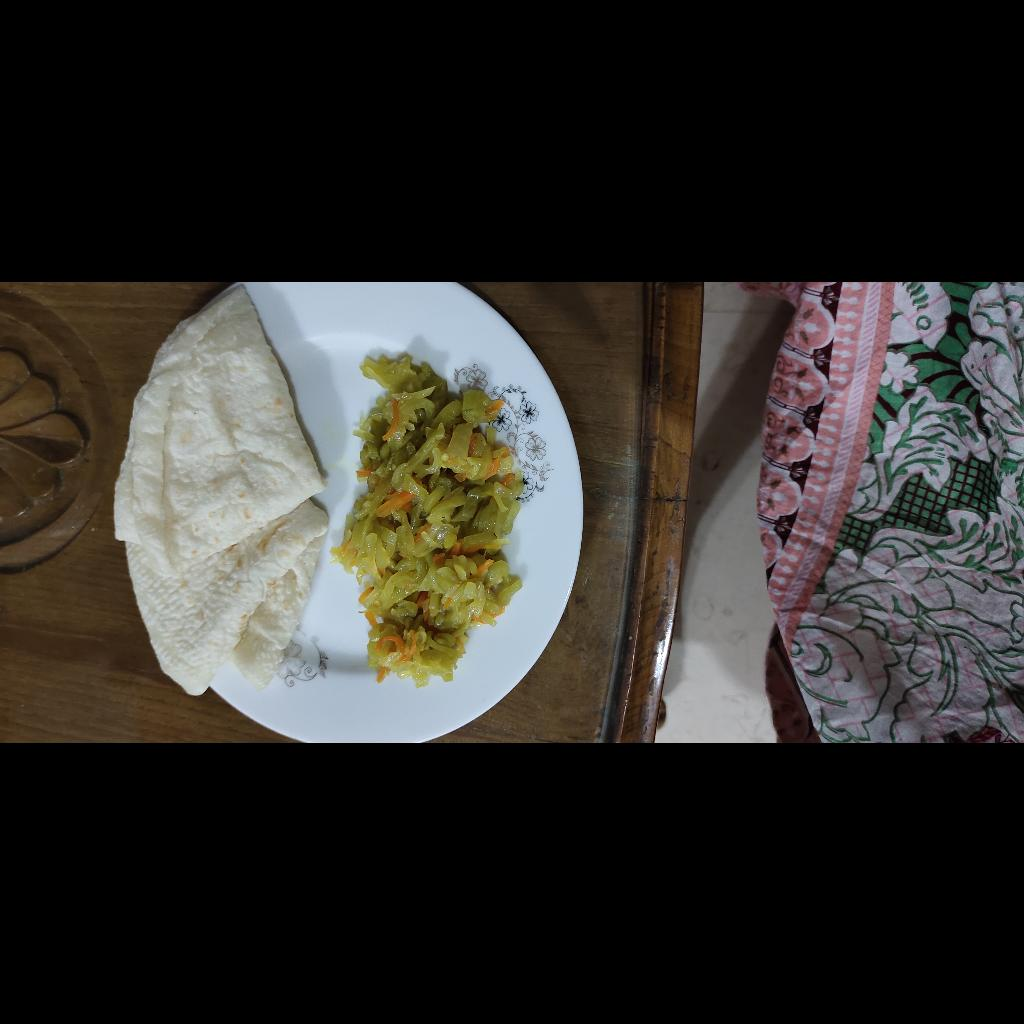chichinga-vaji: (53, 615, 389, 806)
ruti: (40, 394, 461, 608)
